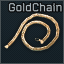Golden neck chain: (0, 0, 64, 64)
